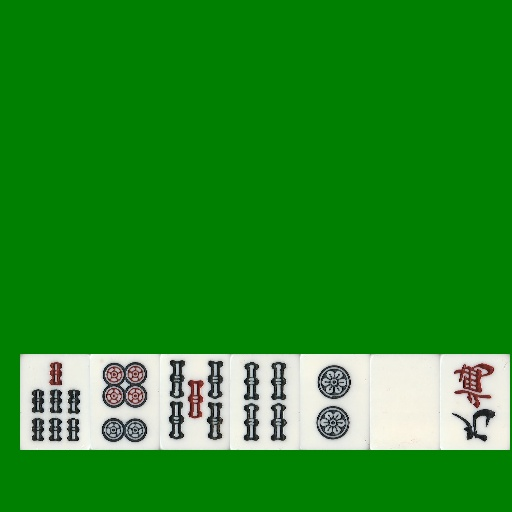2p: (300, 354, 370, 450)
4s: (230, 354, 300, 450)
5s: (160, 354, 230, 450)
6p: (90, 354, 160, 450)
7s: (20, 354, 90, 450)
9m: (440, 354, 510, 450)
white: (370, 354, 440, 450)
